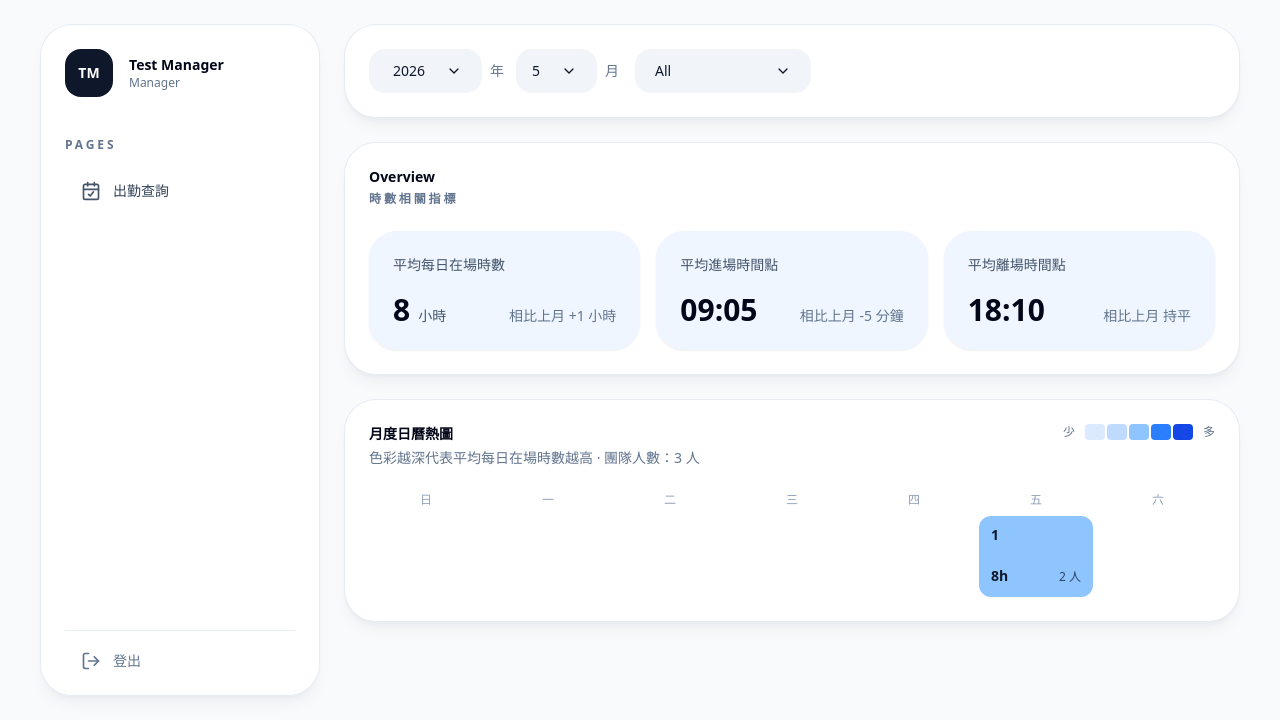
Test case: TrendsPage › reloads team reports when a department is selected
Expected: the text "8" is shown, [393,295,410,325]
Select "Engineering" in the 3rd dropdown at (723, 71), box [635,49,811,93]
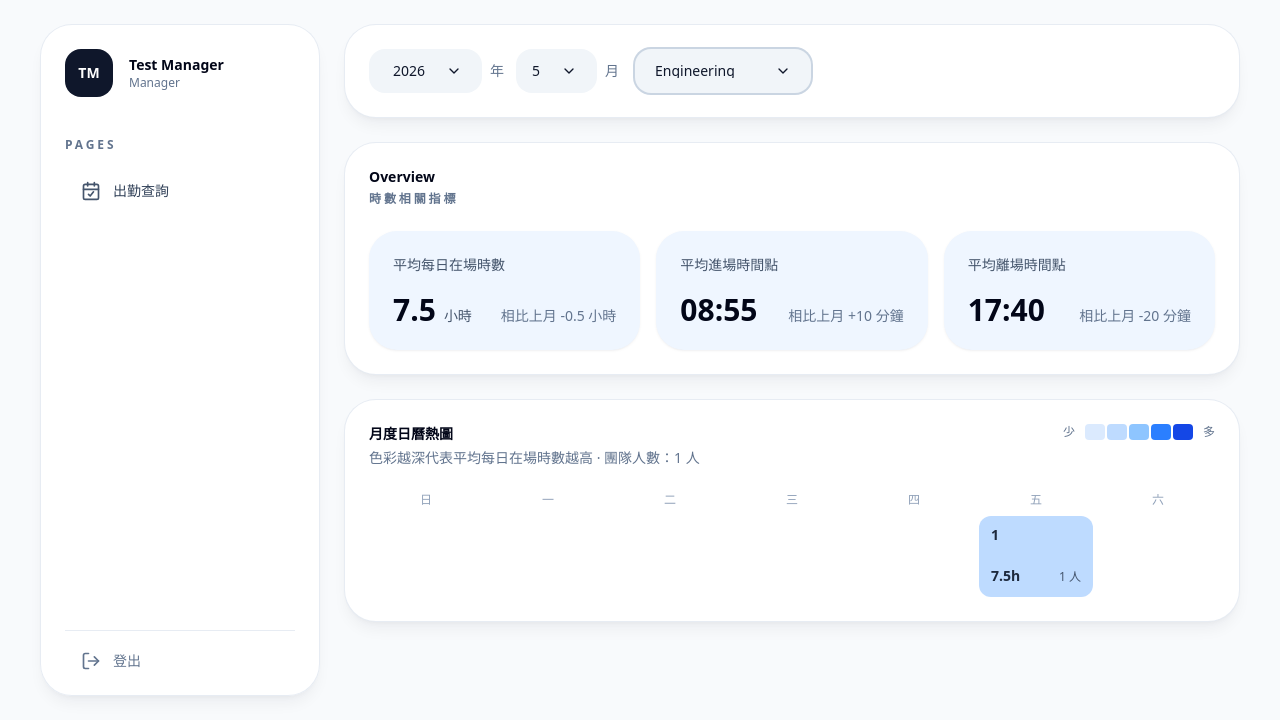
Expected: the text "7.5" is shown, [393,295,436,325]
